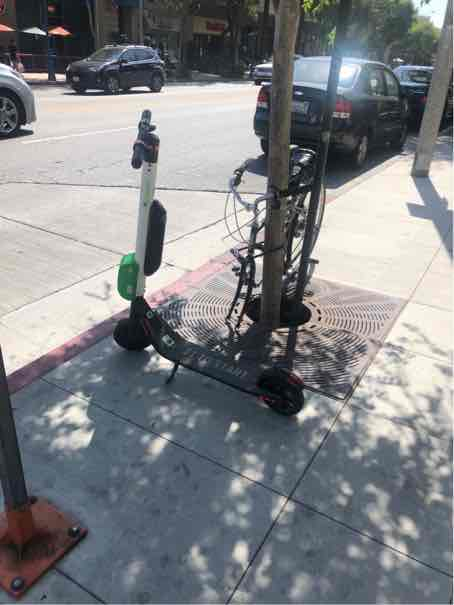scooter: (107, 93, 316, 414)
